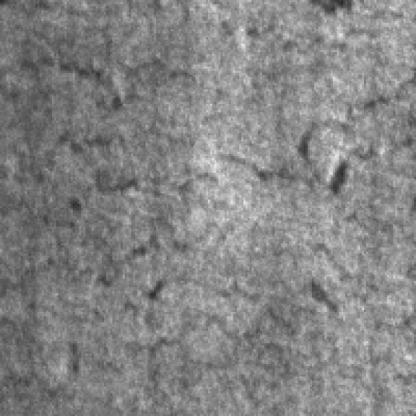crazing: (56, 56, 231, 154), (94, 162, 232, 283), (293, 68, 416, 196)
